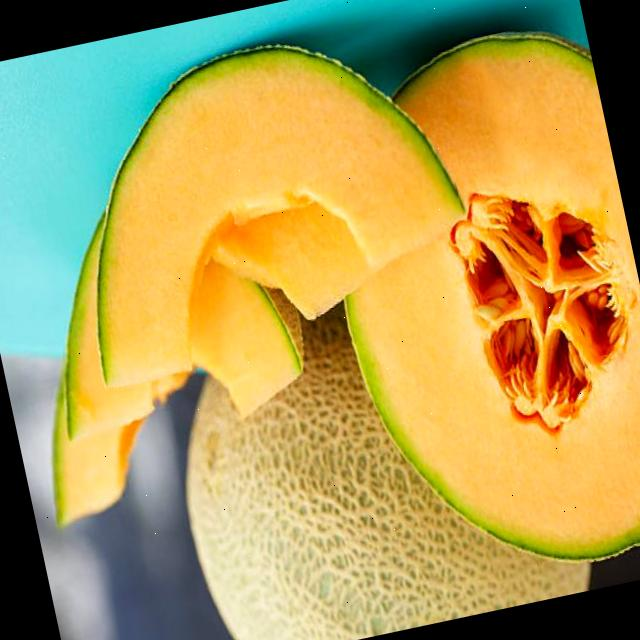Hami Melon: (295, 19, 640, 599), (41, 11, 480, 394), (154, 269, 592, 640)
